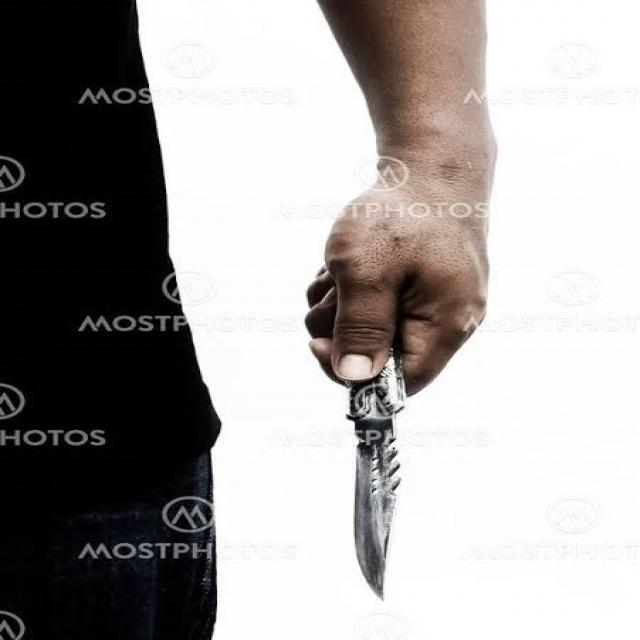knife: (346, 354, 404, 602)
